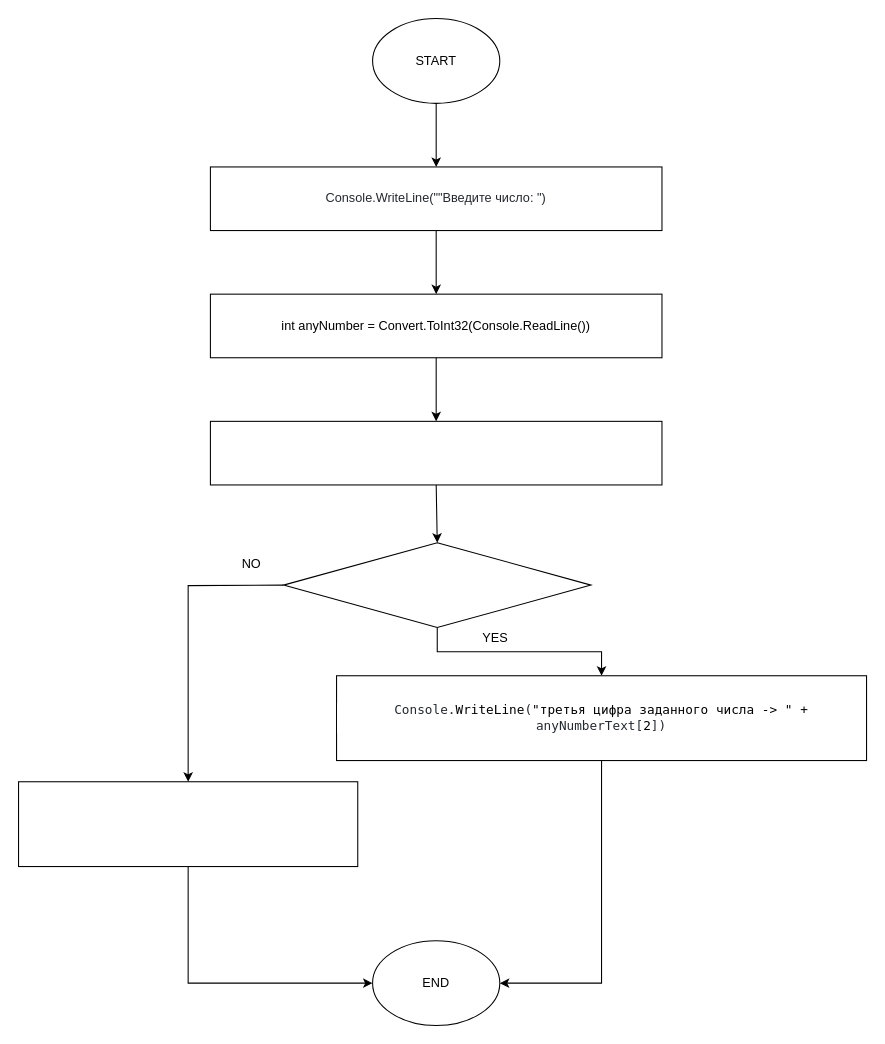
Some shapes in this 885 by 1044 pixel diagram are drawn without their labels. The shapes that lost their labels are listed below. From the top down, each one's centre as x and y in pixels, then its label:
[435,452]: string anyNumberText = Convert.ToString(aneNumber)
[436,585]: anyNumberText.Length > 2
[187,824]: Console . WriteLine ( " -> третьей цифры нет " )
